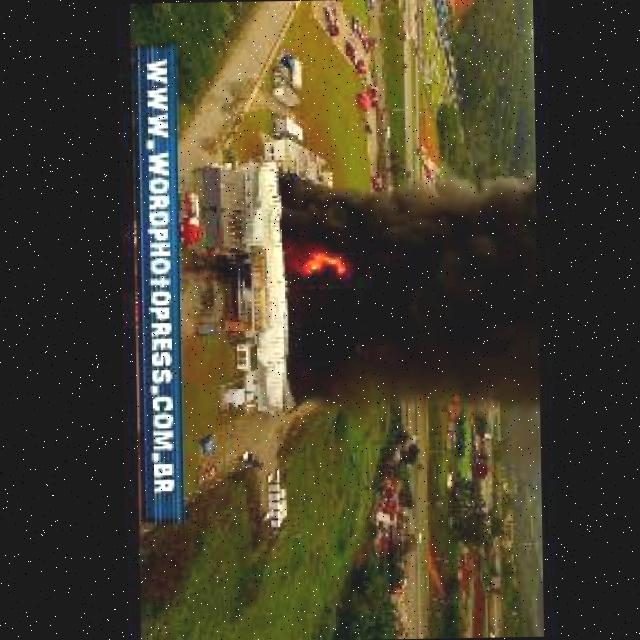fire: (296, 250, 352, 280)
